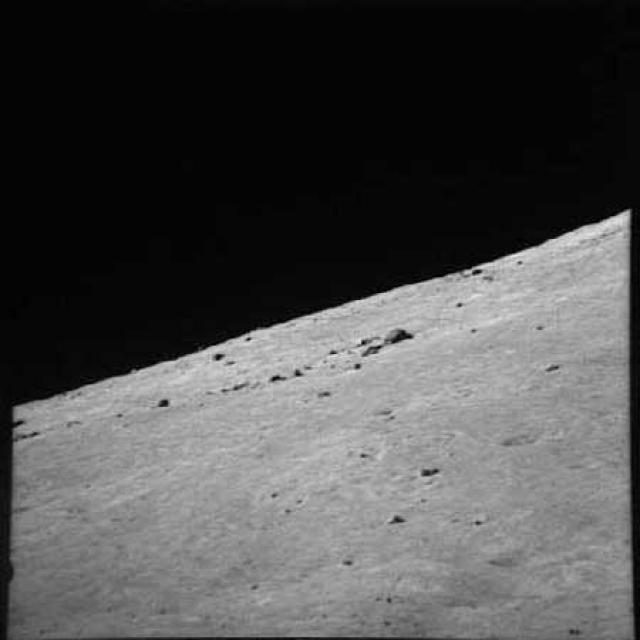rock: (381, 321, 417, 351), (350, 335, 379, 358), (152, 389, 172, 413), (264, 366, 285, 386)
